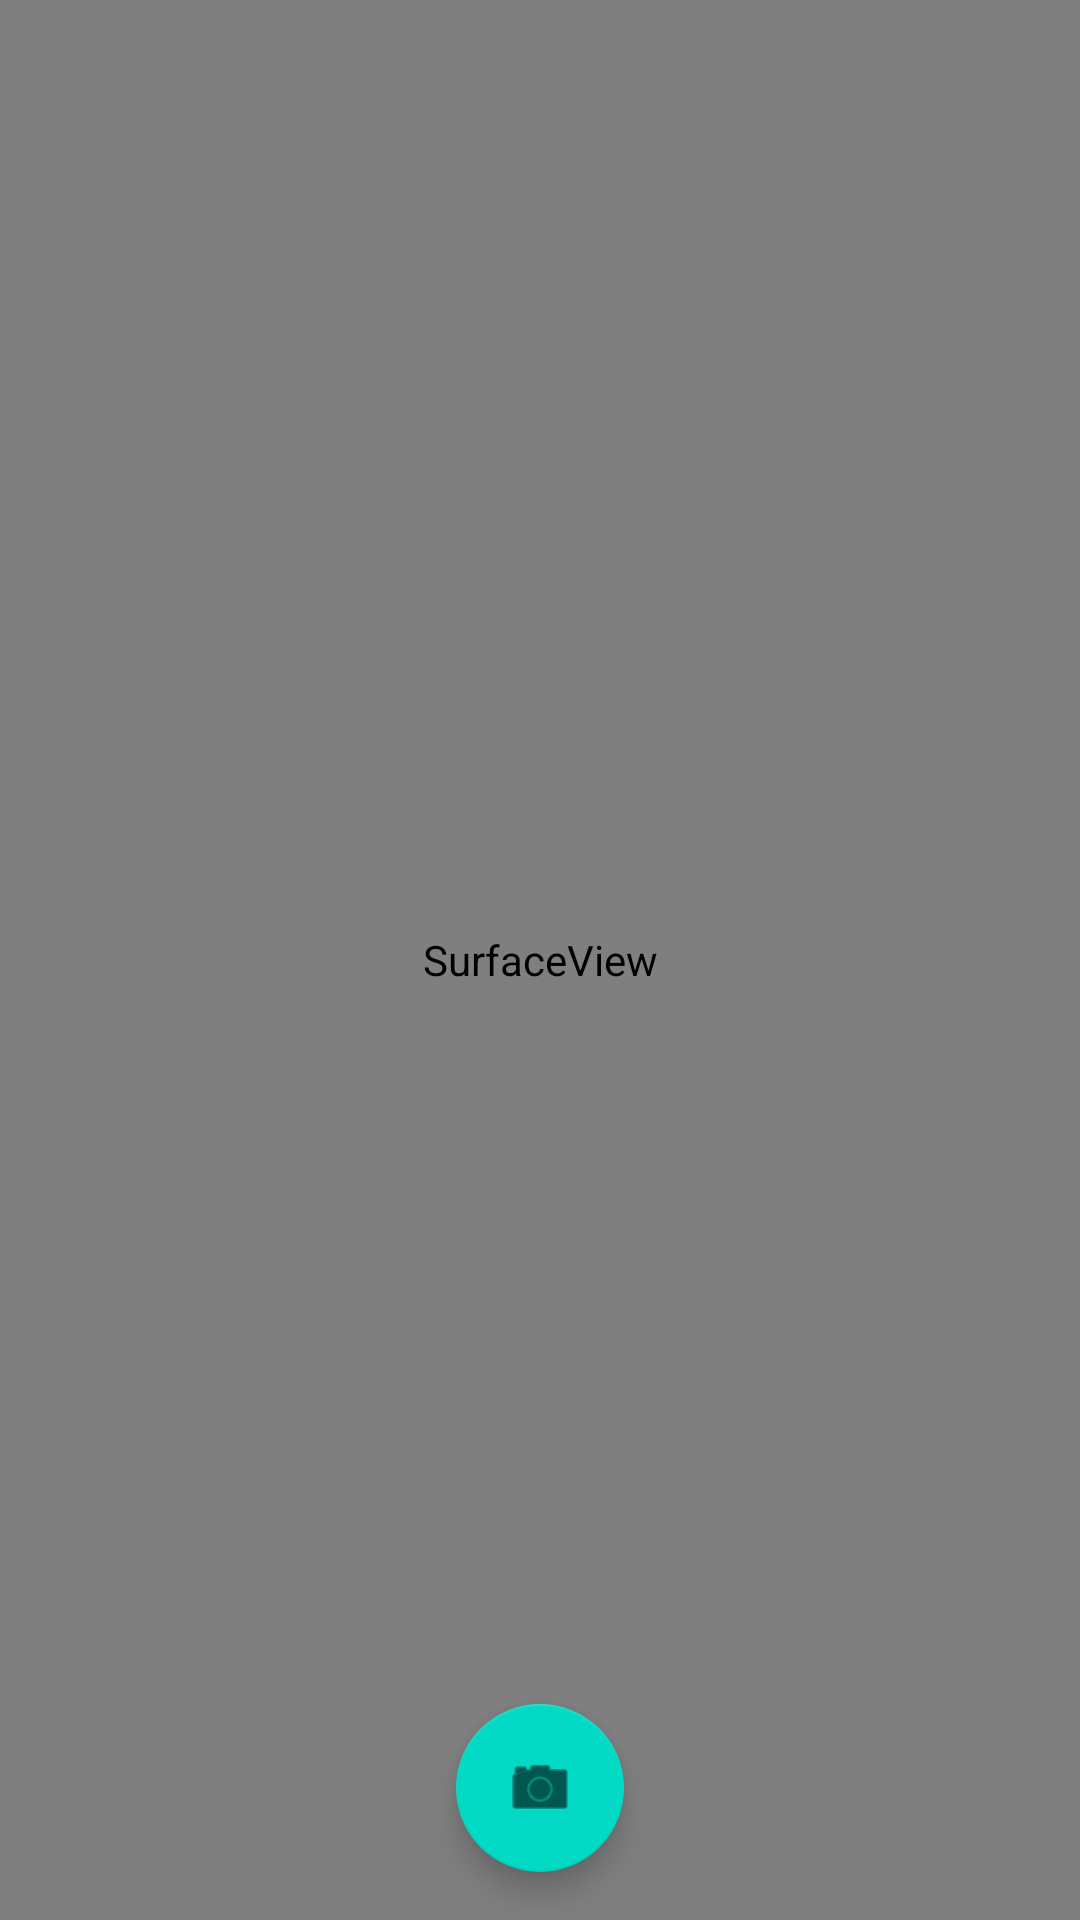

Where icons sit on this 1080px x 1920px app screen, as detection(x1, y1, x2, y2):
camera: detection(456, 1704, 624, 1872)
